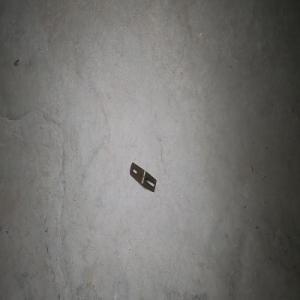MetalPart: (129, 161, 157, 193)
